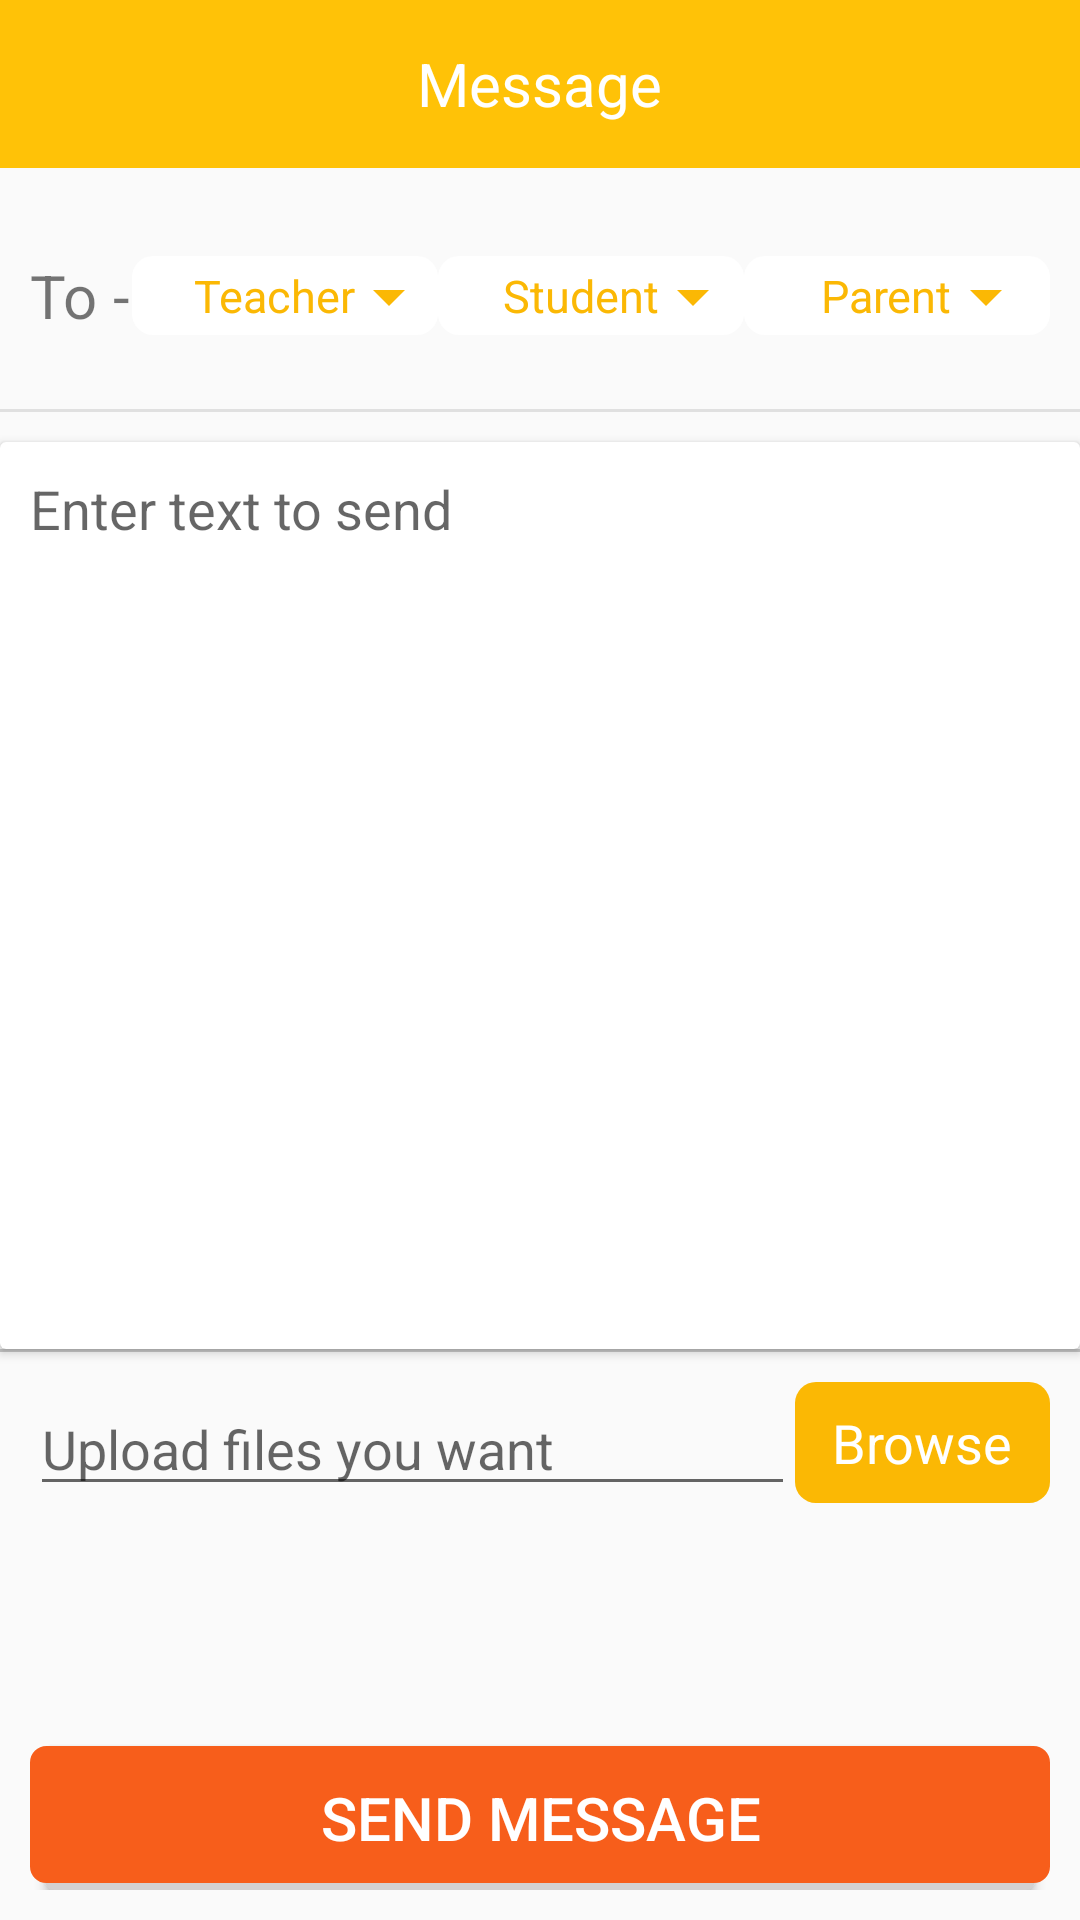

Where icons sit on this 1080px×1920px app screen, as [x1,y1,x2,y2]:
drop down app: [373,290,405,306], [677,290,709,306], [970,290,1002,306]
